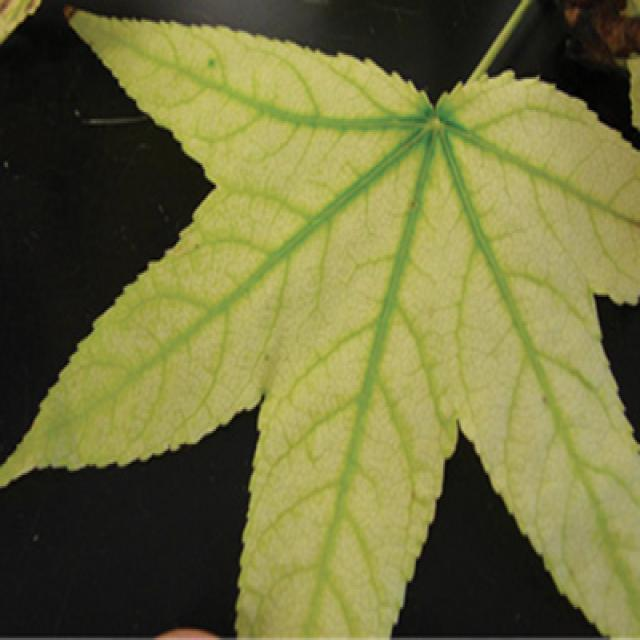Chlorosis: (15, 16, 629, 628)
